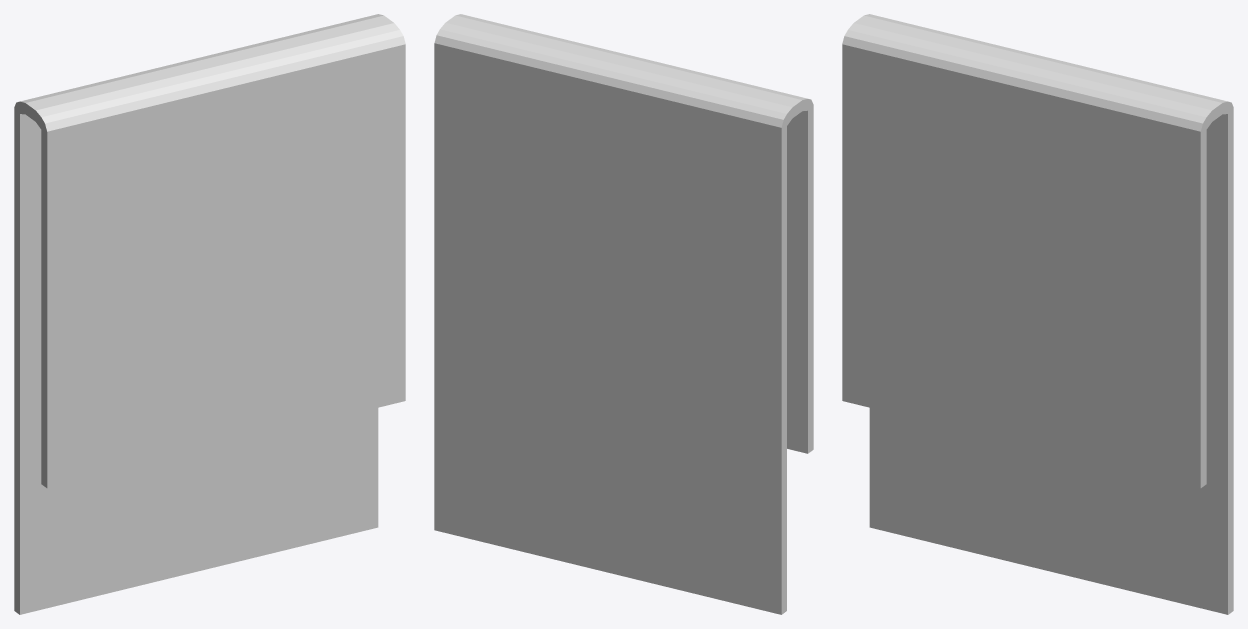
Rendered from Towel_04.fbx.
The picture shows the model from 3 angles, left to right: view 1: azimuth 30°, elevation 25°; view 2: azimuth 150°, elevation 25°; view 3: azimuth 330°, elevation 25°; orthographic projection. The views are drawn at different scales.
Parts seen in each view (by area): view 1: Towel_04; view 2: Towel_04; view 3: Towel_04.
Part boxes in pixels (x1,y1,x2,y2): Towel_04: (14,14,405,614); Towel_04: (434,14,813,614); Towel_04: (842,14,1233,614).
Size of the model in its own units: 35.79 by 49.22 by 5.7.
